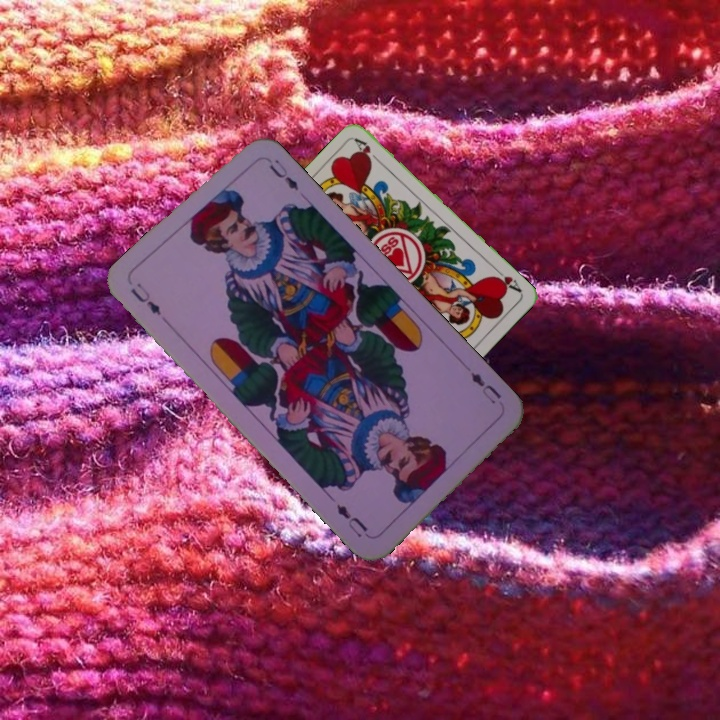EU: (126, 278, 164, 318), (466, 368, 504, 407)
HA: (489, 264, 524, 295)
